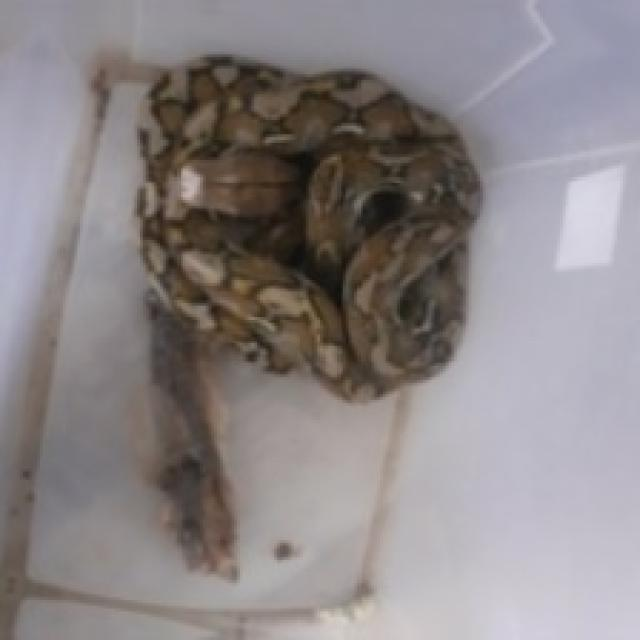reticulated python: (140, 57, 477, 397)
